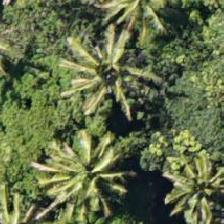coconut_tree: (65, 23, 155, 113), (157, 132, 223, 222), (0, 172, 53, 223)
